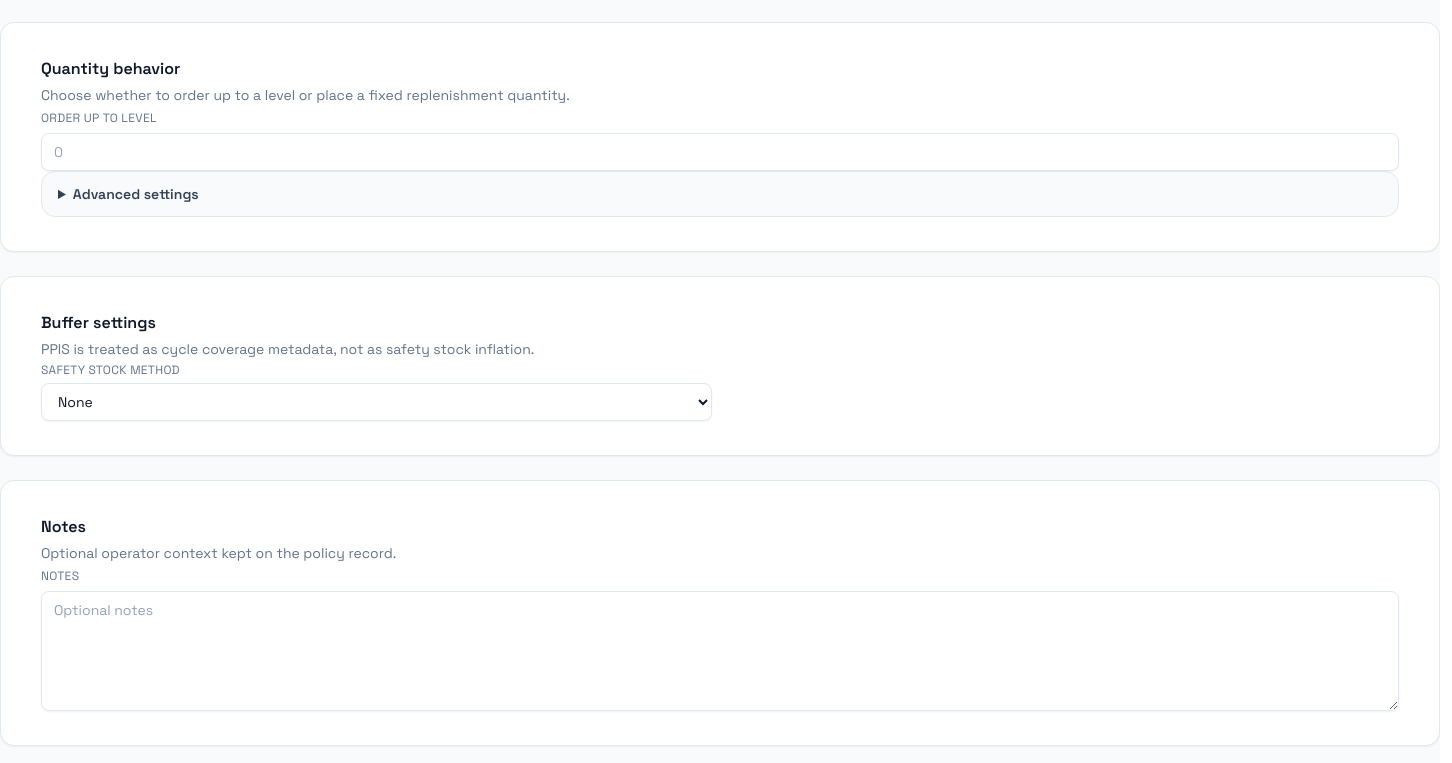
it: replenishment policy pages › uses progressive disclosure on the create form
The image size is (1452, 763).
(page scrolled)
Expected: the text "Order up to level" is shown, 41,110 -> 157,126
Expected: the text "Fixed order quantity" is not shown
Step 1. Select "Fixed safety stock" in the dropdown showing "None" → (376, 402), box 41,383 -> 712,421
(page scrolled)
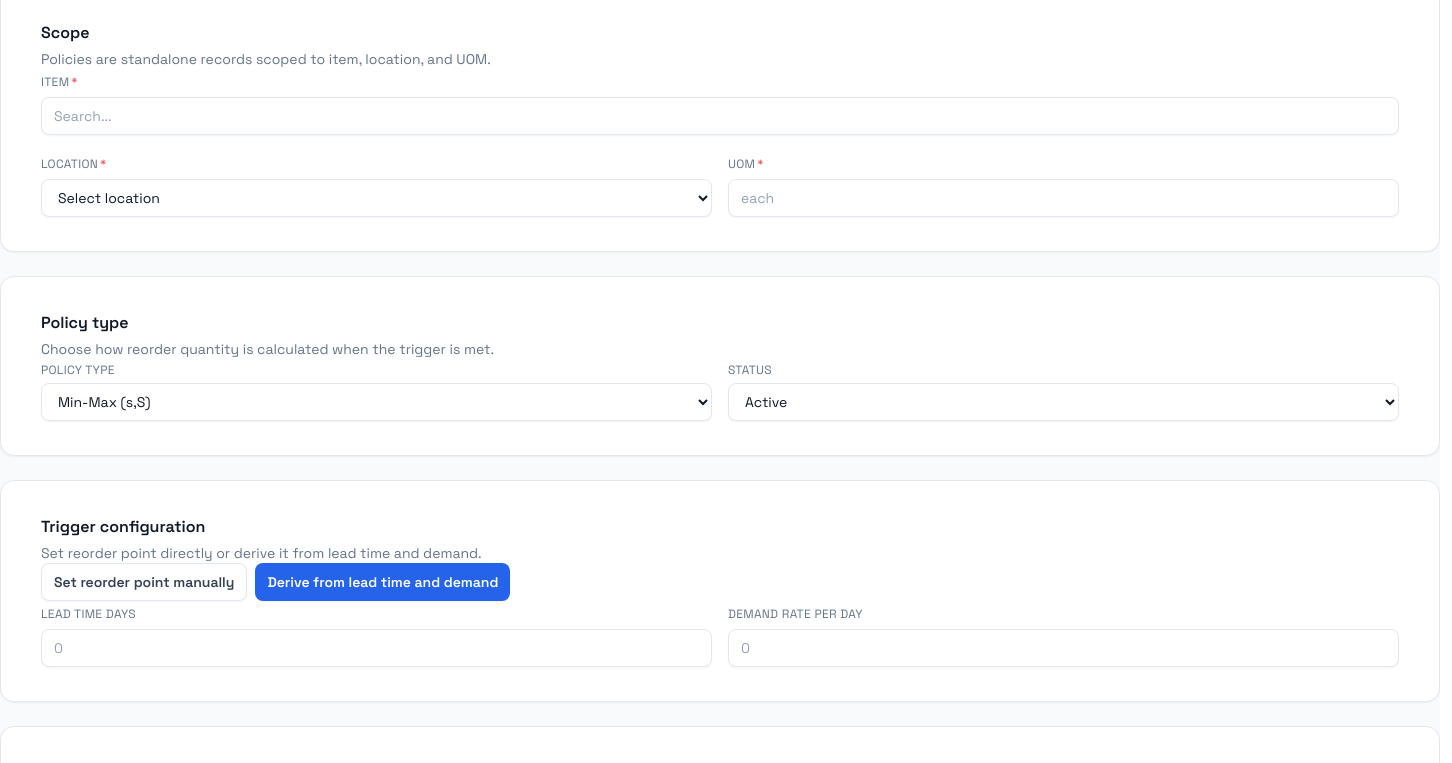
Step 2. Select "Fixed order / reorder point (s,Q)" in the dropdown showing "Min-Max (s,S)" → (376, 402), box 41,383 -> 712,421
(page scrolled)
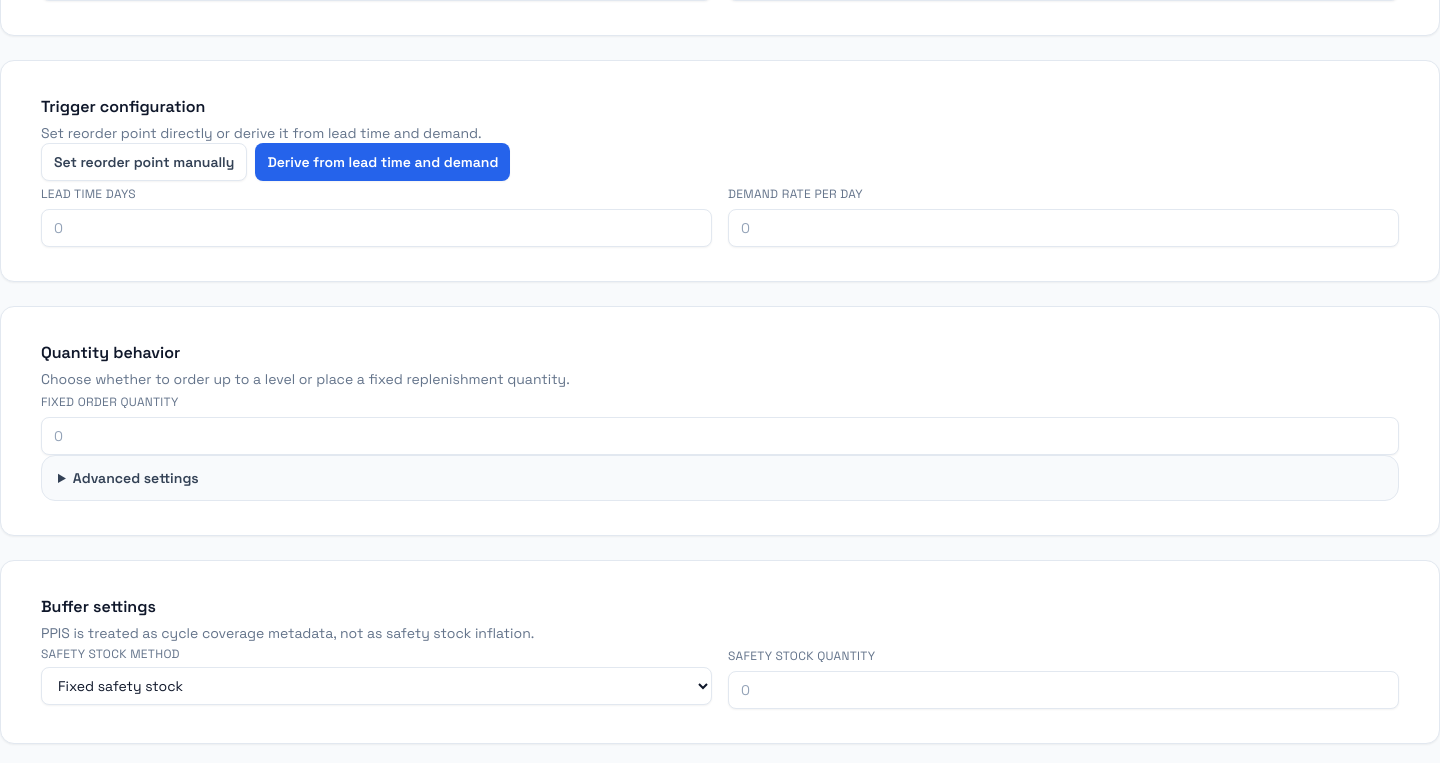
Now the text "Fixed order quantity" is shown, box 41,394 -> 179,410
